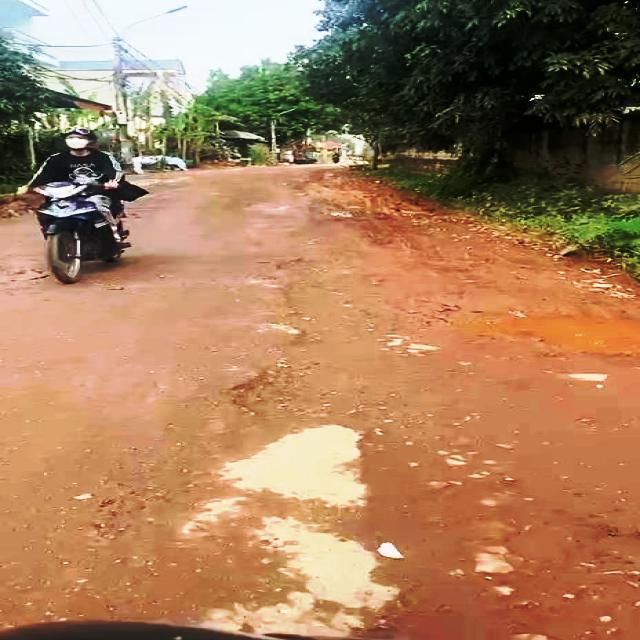pothole: (469, 302, 640, 355)
